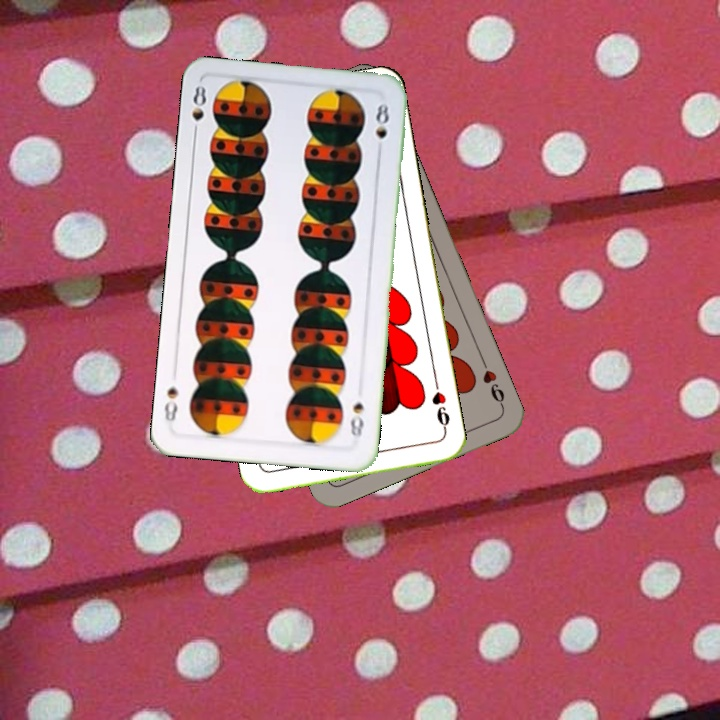H9: (477, 354, 508, 410), (427, 376, 453, 435)
S8: (186, 81, 209, 140), (346, 399, 367, 446)
